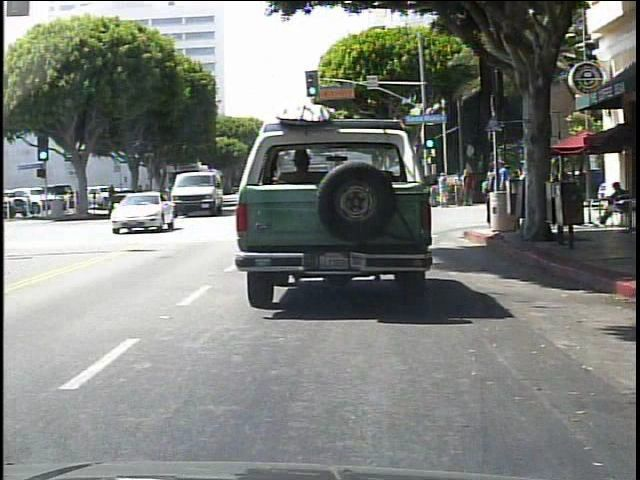person: (596, 178, 632, 228), (496, 161, 514, 228), (519, 161, 537, 221), (490, 165, 508, 218), (485, 164, 500, 226), (535, 163, 549, 206), (465, 167, 476, 207), (439, 173, 451, 209), (456, 173, 466, 207), (430, 180, 440, 210)
